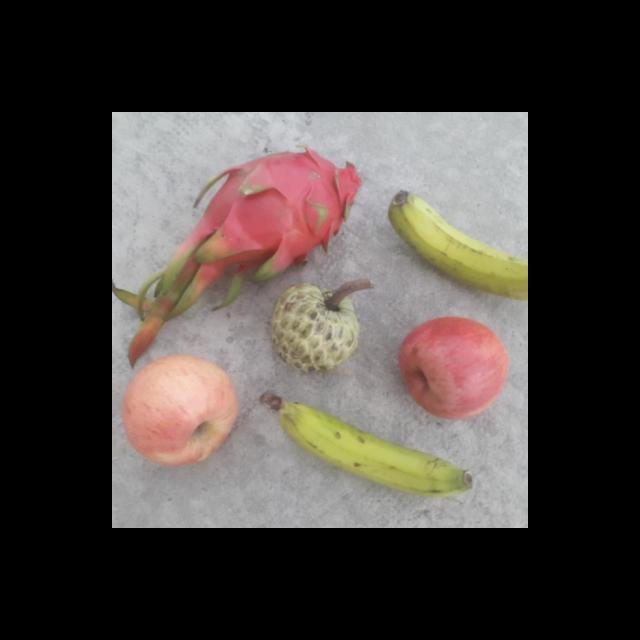Sakya fruit: (268, 281, 364, 375)
apple: (198, 146, 362, 280), (120, 354, 240, 471), (398, 315, 512, 425)
banana: (259, 396, 482, 502), (388, 188, 528, 306)
